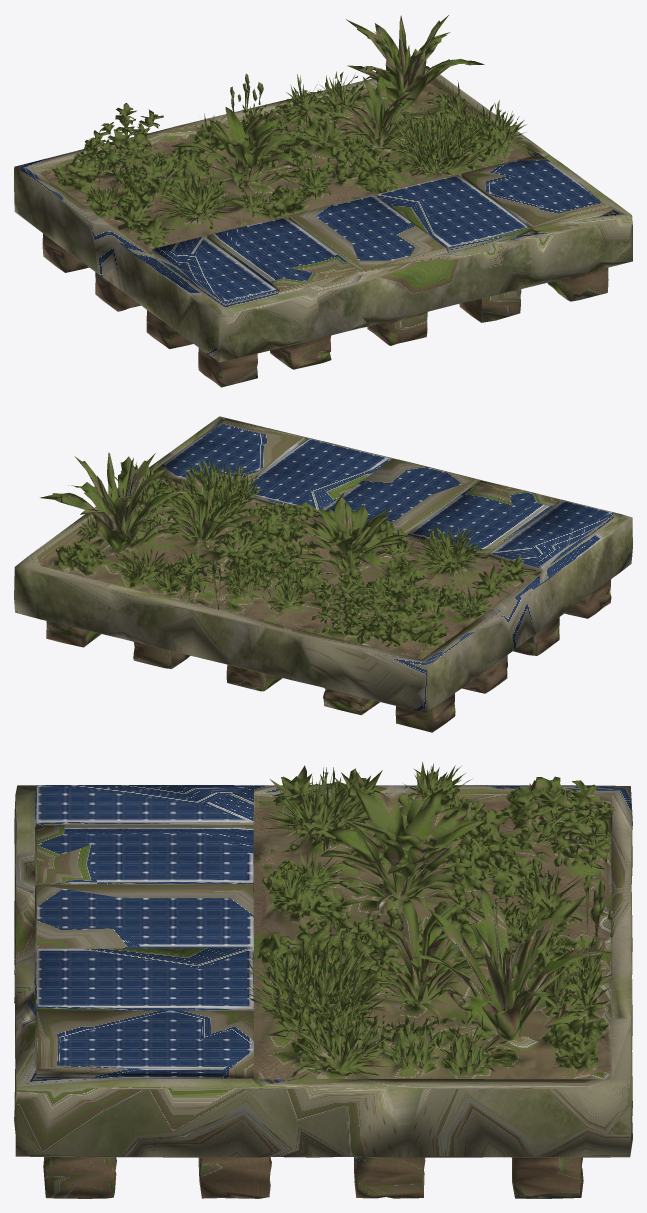
File: pvplanter.glb
3 renders of one model, top to bottom at view 1: azimuth 30°, elevation 25°; view 2: azimuth 150°, elevation 25°; view 3: azimuth 270°, elevation 25°, orthographic. The views are drawn at different scales.
Size of the model in its own units: 1.9 by 0.7555 by 1.61.
1 material, 1 textured.
